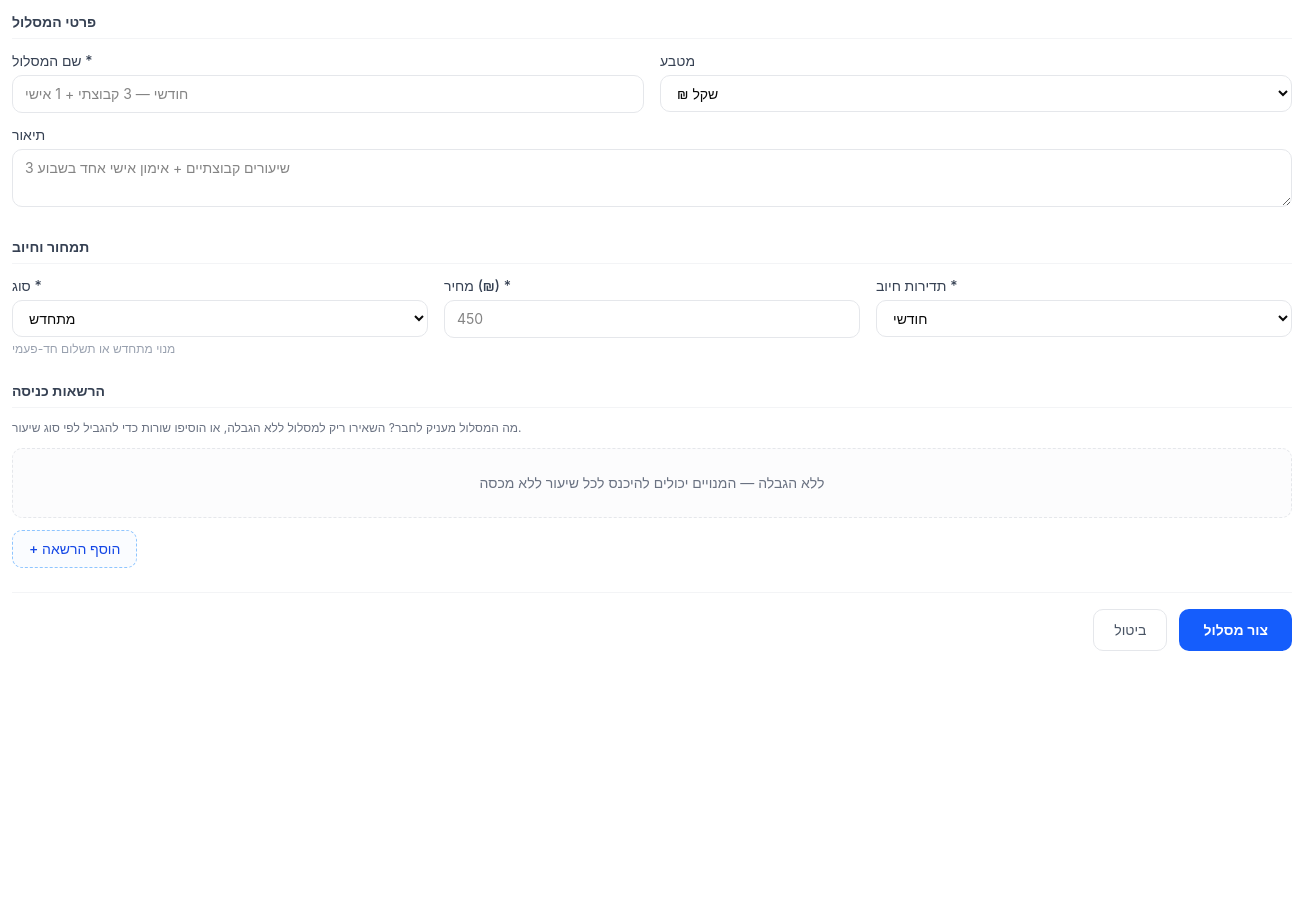
it: PlanForm — create mode › recurring shows 'תדירות חיוב'; switching to one_time shows duration_days
Expected: the text "תדירות חיוב *" is shown, [876,277,958,294]
Expected: the text "תוקף (בימים)" is not shown
Flip the "סוג" select to "חד-פעמי"
Select "חד-פעמי" in the dropdown showing "מתחדש" below "סוג *" at (220, 318), box [12,300,428,337]
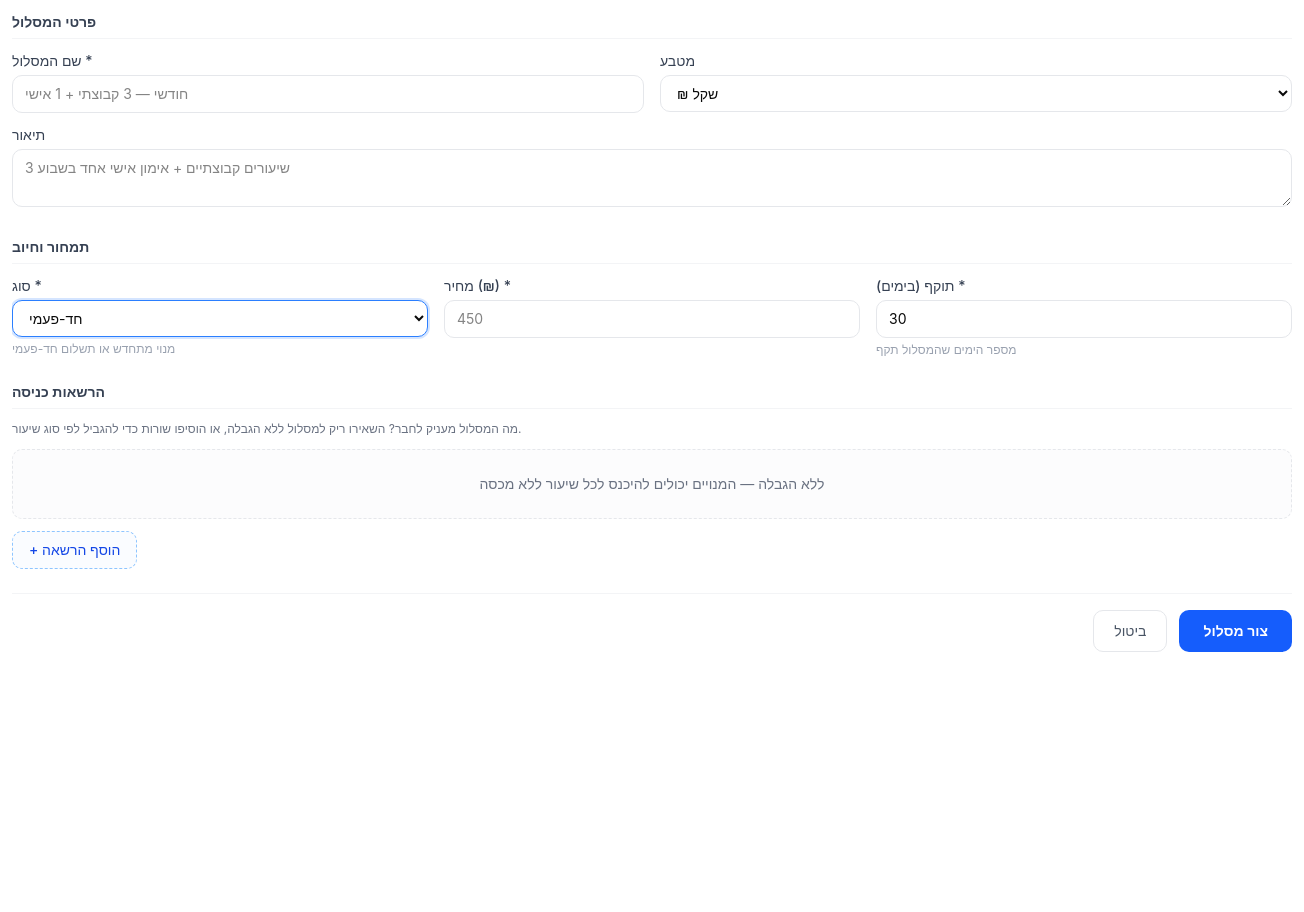
Now the text "תוקף (בימים) *" is shown, box [876,277,966,294]
Now the text "תדירות חיוב *" is gone
